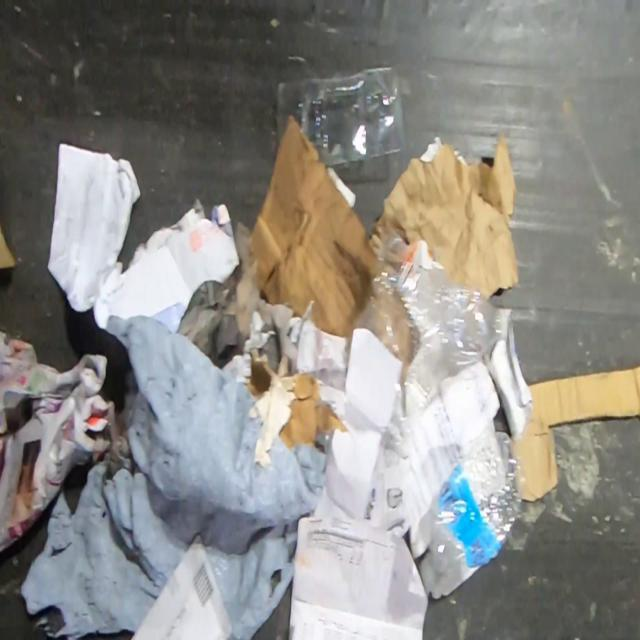cardboard: (248, 116, 374, 339), (370, 123, 520, 299), (91, 204, 241, 332), (510, 362, 640, 503), (243, 352, 350, 468), (0, 224, 18, 272)
rigid_plastic: (351, 226, 514, 454), (429, 427, 526, 588), (275, 64, 407, 167)
soft_plastic: (18, 304, 333, 640)
